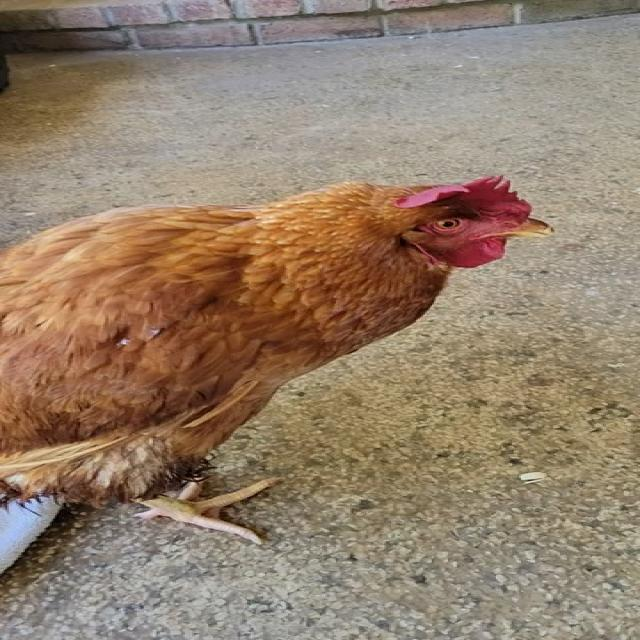Breathing: (0, 173, 555, 540)
